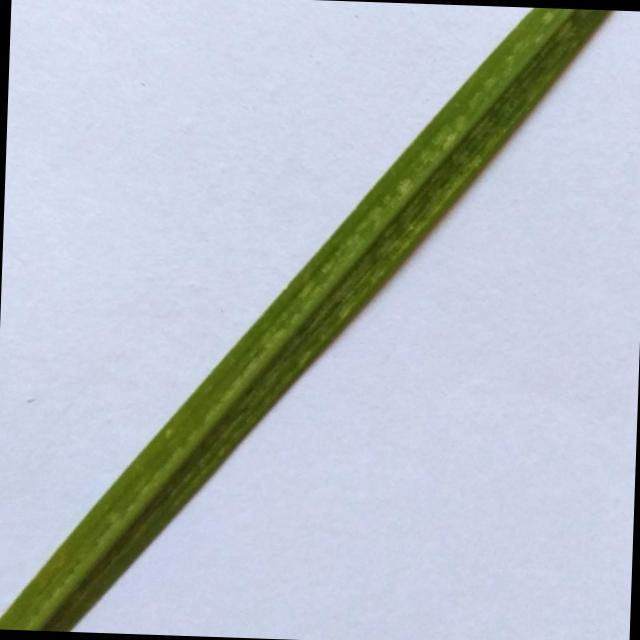Rice_Healthy: (0, 7, 611, 631)
